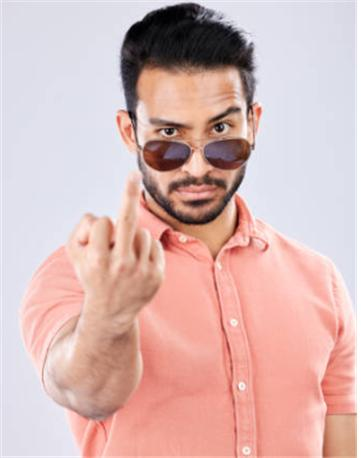insulting_gesture: (60, 168, 166, 338)
